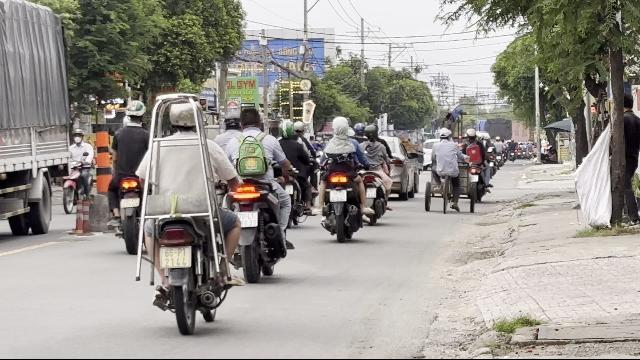helmet: (168, 104, 196, 130), (124, 100, 146, 124), (331, 124, 349, 140), (331, 116, 349, 128)
licenseplate: (160, 246, 192, 268), (236, 212, 258, 229), (329, 190, 346, 202), (120, 198, 140, 208)
motorcyclist: (124, 89, 240, 331), (226, 103, 294, 280), (106, 99, 152, 251), (317, 114, 367, 242)
nohelmet: (238, 105, 262, 129)
